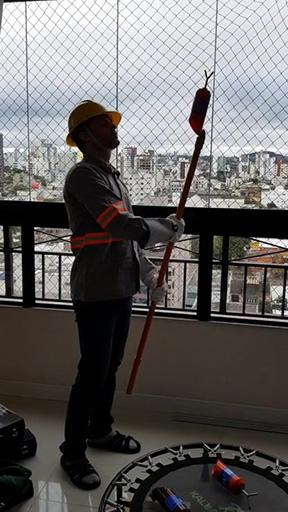Detector_Tensao_Contato: (210, 460, 257, 502), (188, 69, 216, 136)
Vara_Manobra: (126, 135, 208, 393)
